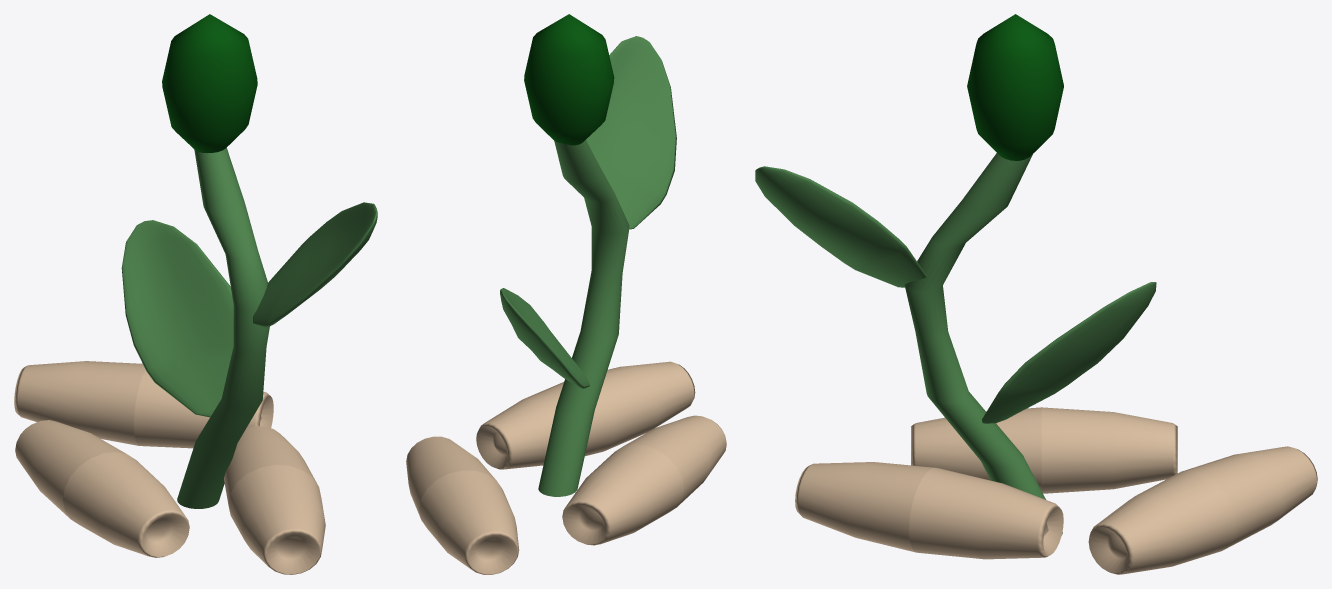
Rendered from SeedV3Sprout.obj.
The picture shows the model from 3 angles, left to right: view 1: azimuth 30°, elevation 25°; view 2: azimuth 150°, elevation 25°; view 3: azimuth 270°, elevation 25°; orthographic projection. The views are drawn at different scales.
Visible parts, largest first — view 1: pSphere11, pSphere6; view 2: pSphere11, pSphere6; view 3: pSphere6, pSphere11.
Part boxes in pixels (left/top/right/bottom): pSphere11: left=121, top=14, right=377, bottom=508; pSphere6: left=14, top=361, right=325, bottom=574; pSphere11: left=500, top=14, right=676, bottom=496; pSphere6: left=406, top=361, right=726, bottom=574; pSphere6: left=795, top=407, right=1317, bottom=574; pSphere11: left=755, top=14, right=1156, bottom=535.
Bounding box in the file's own units: 0.5402 × 1.02 × 0.9963.
3 materials, 2 textured.
